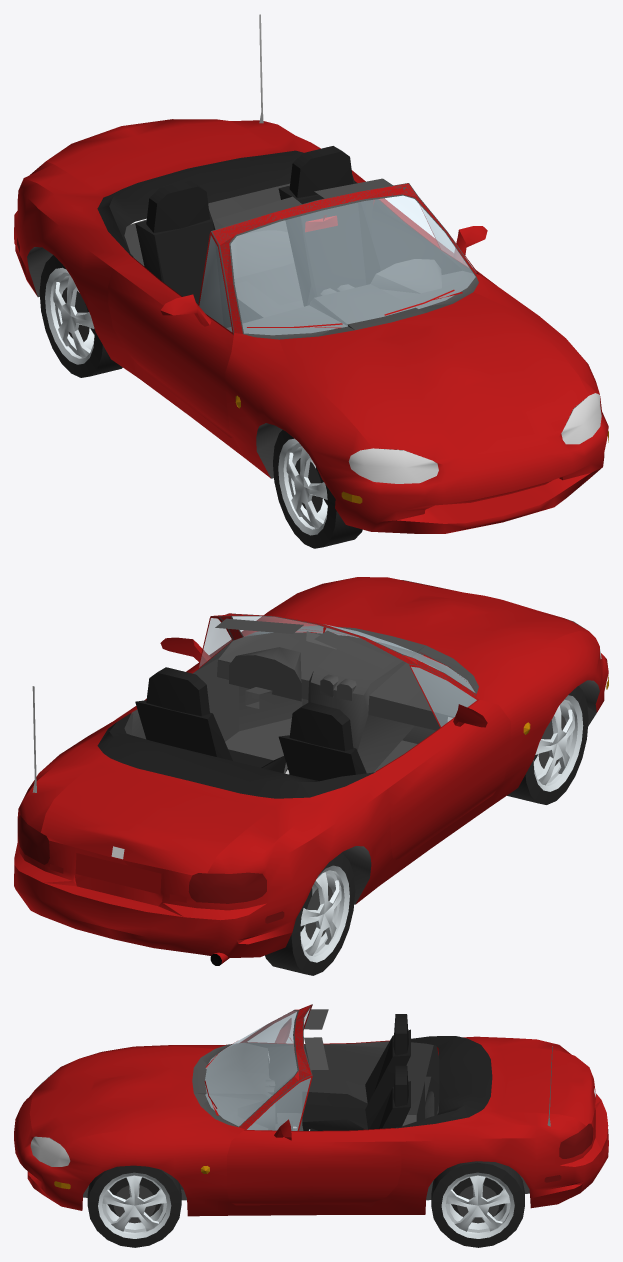
Rendered from PlayerCar2.fbx.
3 renders of one model, top to bottom at view 1: azimuth 30°, elevation 25°; view 2: azimuth 150°, elevation 25°; view 3: azimuth 270°, elevation 25°, orthographic. The views are drawn at different scales.
Visible parts, largest first — view 1: body.dof_001, lw.dof_004, lw.dof_003; view 2: body.dof_001, lw.dof_003, lw.dof_004; view 3: body.dof_001, lw.dof_002, lw.dof_001.
Part boxes in pixels (left/top/right/bottom): body.dof_001: left=14, top=14, right=608, bottom=533; lw.dof_004: left=273, top=430, right=362, bottom=548; lw.dof_003: left=39, top=255, right=122, bottom=377; body.dof_001: left=14, top=577, right=608, bottom=965; lw.dof_003: left=265, top=853, right=355, bottom=975; lw.dof_004: left=507, top=686, right=588, bottom=804; body.dof_001: left=14, top=1004, right=608, bottom=1216; lw.dof_002: left=431, top=1161, right=524, bottom=1247; lw.dof_001: left=87, top=1165, right=181, bottom=1247.
Size of the model in its own units: 1.85 by 1.43 by 3.96.
